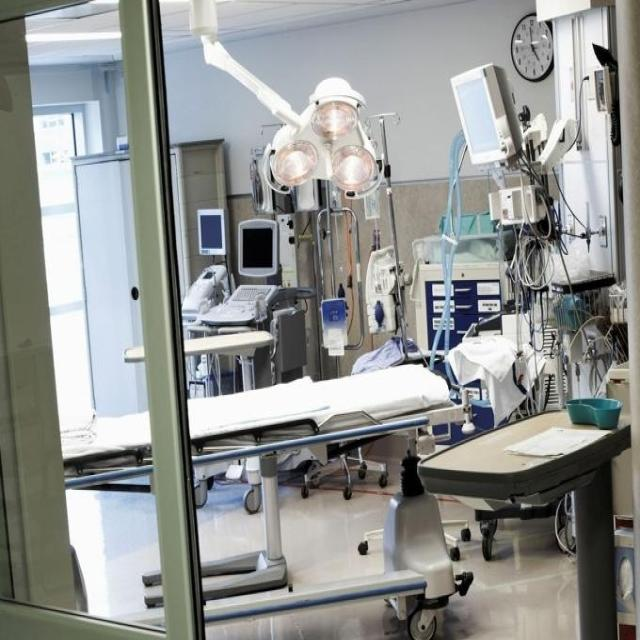E-waste: (36, 49, 640, 640)
